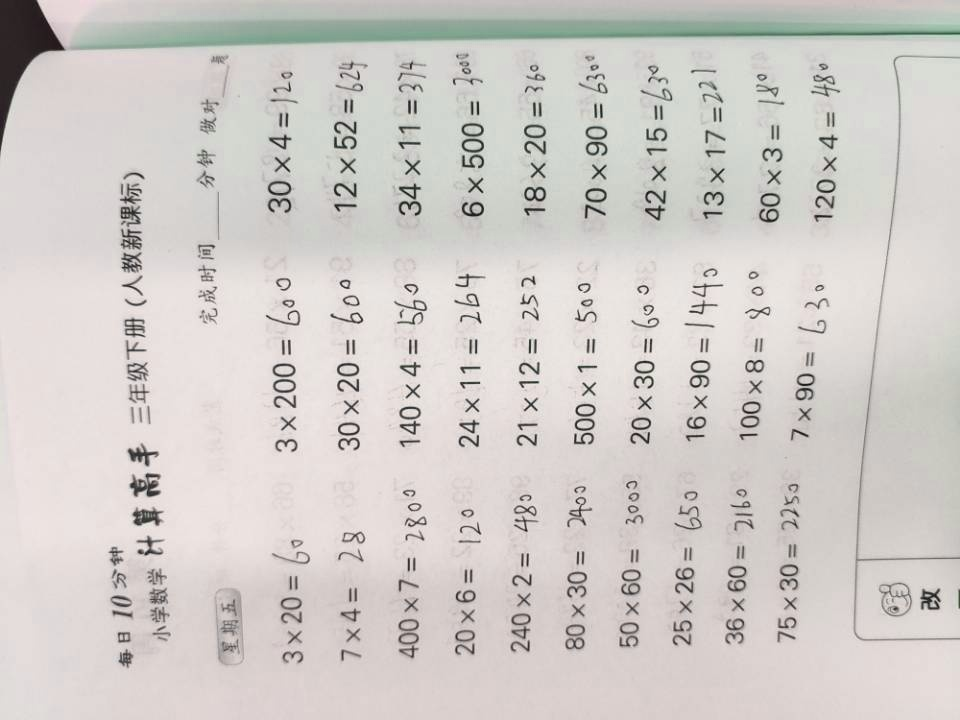equation: (547, 257, 624, 454), (611, 254, 676, 461), (369, 478, 437, 673), (505, 254, 564, 472), (442, 46, 511, 229), (257, 261, 316, 462), (311, 48, 377, 224), (707, 474, 766, 668), (384, 274, 444, 458), (384, 46, 443, 232), (444, 256, 498, 455), (683, 253, 736, 454), (497, 481, 551, 675), (806, 51, 860, 243), (438, 500, 498, 672), (551, 481, 608, 662), (605, 468, 656, 668), (658, 477, 715, 655), (566, 50, 622, 228), (251, 525, 321, 667), (327, 268, 377, 462), (685, 57, 742, 227), (511, 47, 562, 236), (731, 254, 779, 454), (632, 51, 682, 240), (763, 474, 815, 652), (787, 284, 840, 454), (750, 61, 798, 231), (326, 519, 377, 676), (263, 54, 308, 229)
